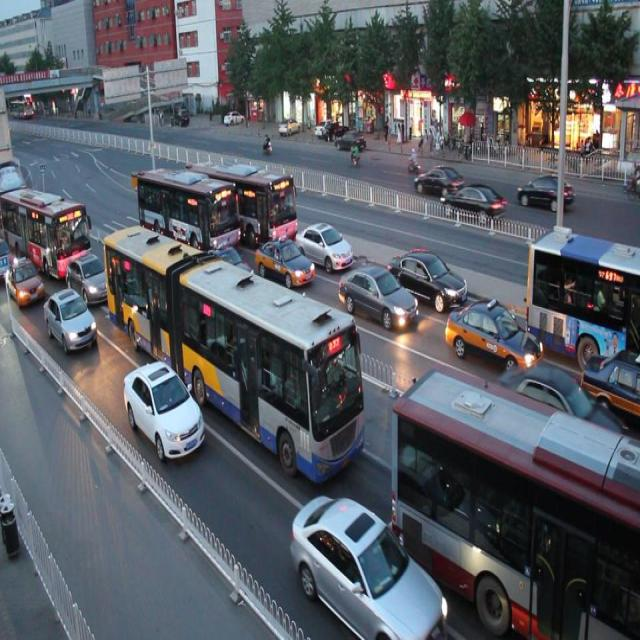car: (288, 487, 446, 640), (495, 360, 625, 485), (120, 358, 207, 462), (446, 294, 544, 382), (337, 258, 416, 331), (390, 243, 468, 309), (580, 345, 640, 420), (253, 230, 314, 289), (294, 214, 352, 273), (43, 290, 98, 352), (198, 241, 256, 296), (65, 251, 115, 306), (0, 250, 42, 307)
van: (102, 218, 366, 482), (393, 365, 640, 640), (524, 225, 640, 360), (136, 160, 240, 262), (191, 153, 298, 248), (1, 182, 90, 272)
